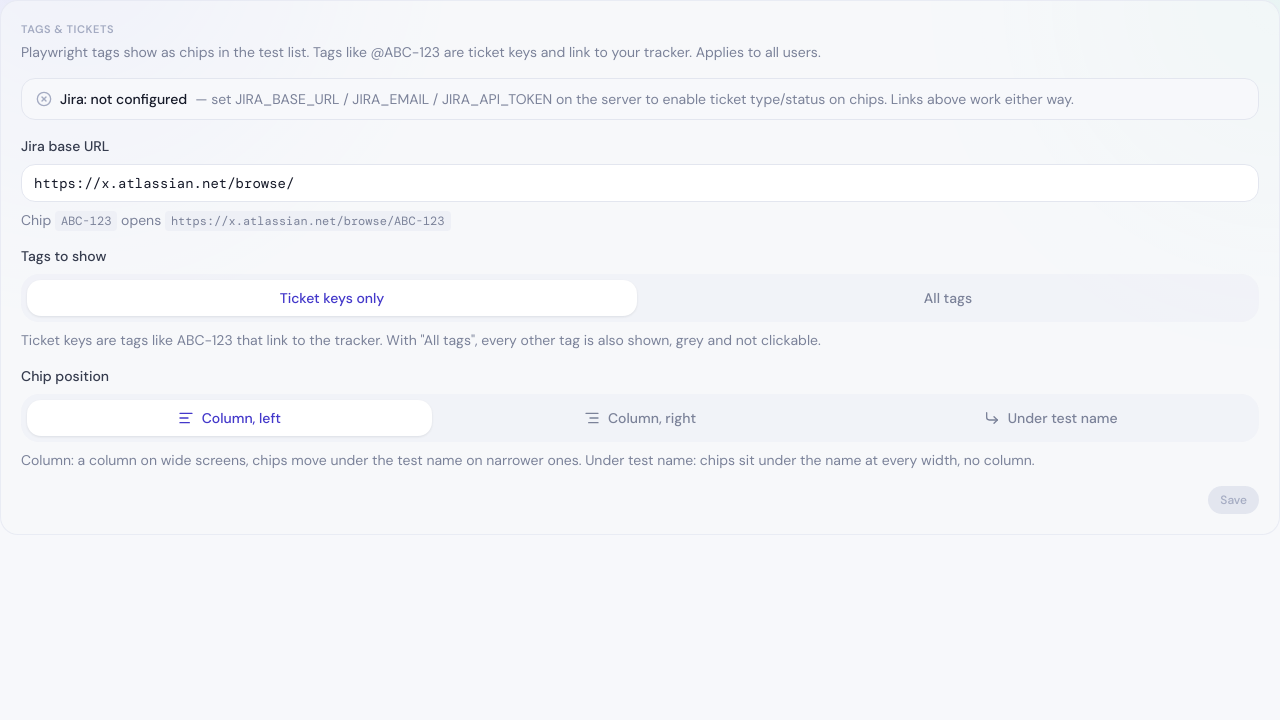
Scenario: SettingsJiraSection › Tags to show › shows the server 400 message for a rejected tag mode and keeps the draft
Expected: the field labelled "Jira base URL" is not empty, [21,164,1259,202]
Click the button "All tags" at [948, 298], box [643,280,1253,316]
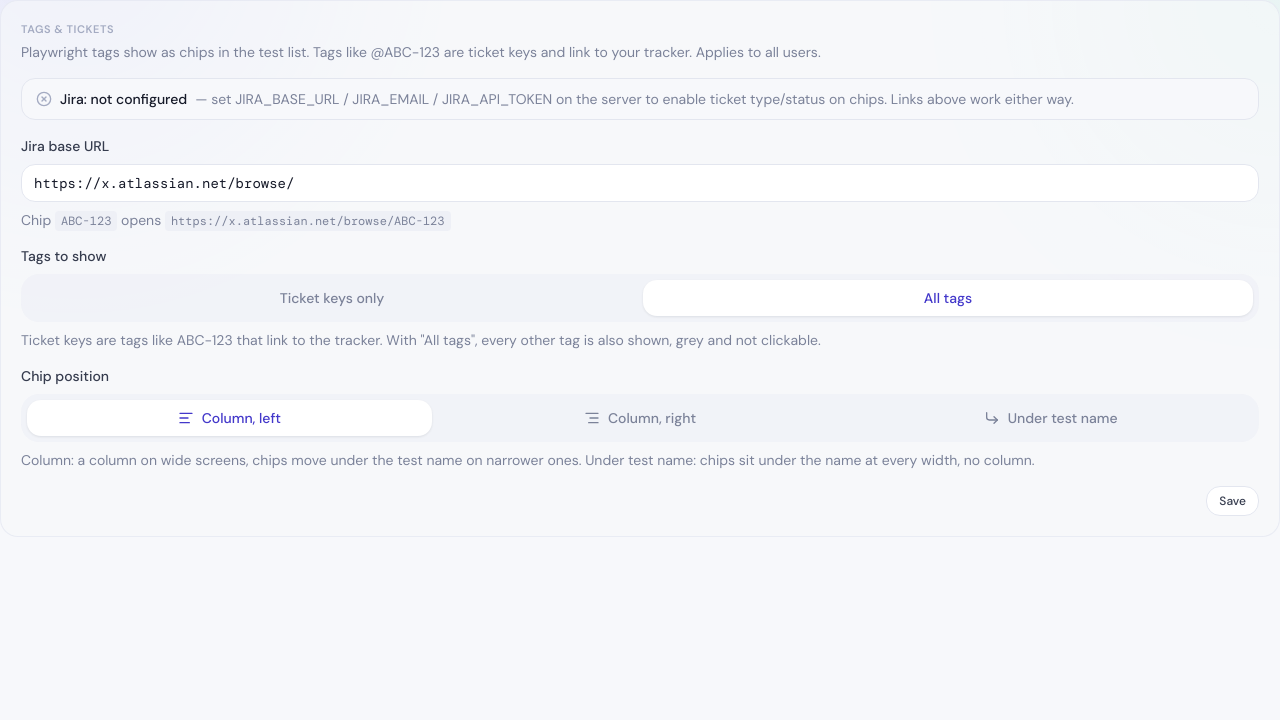
Click the button "Save" at [1233, 500], box [1206,486,1259,516]
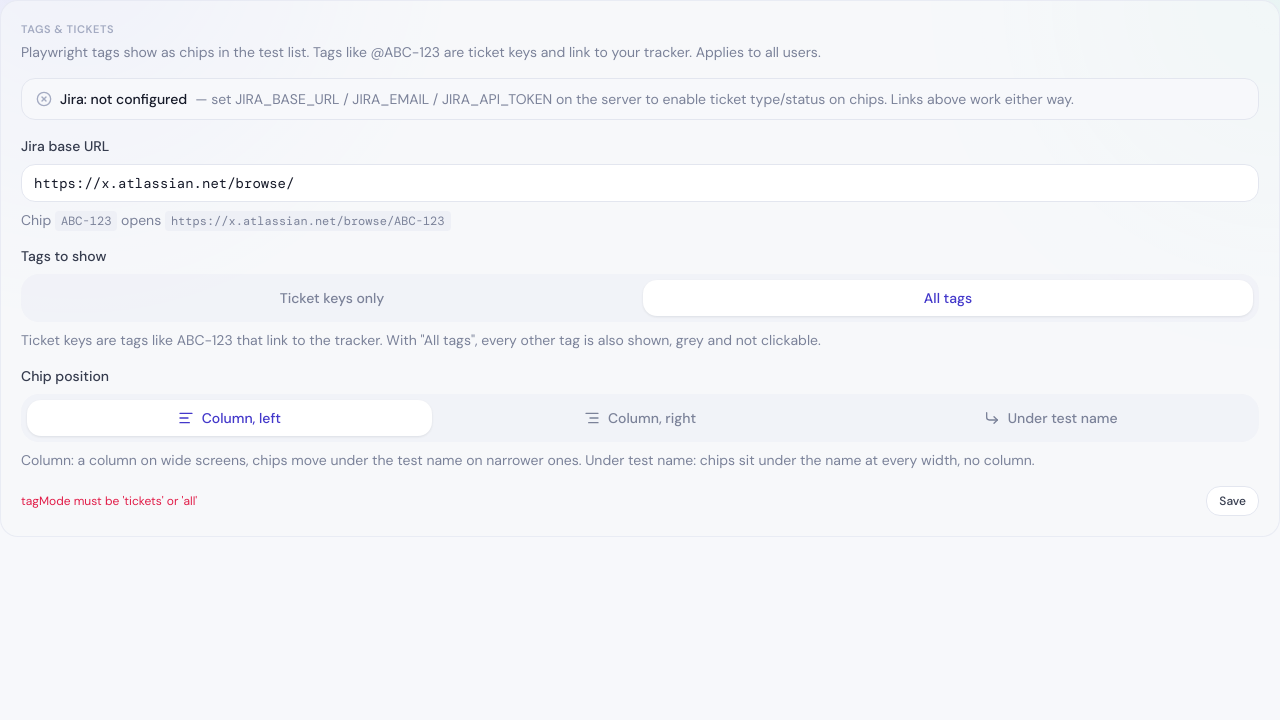
Now the text "tagMode must be 'tickets' or 'all'" is shown, box [21,492,197,508]
